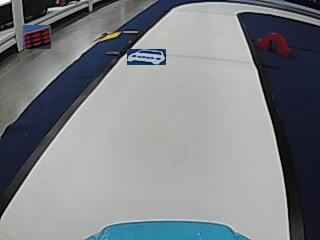bridge: (258, 32, 290, 55)
